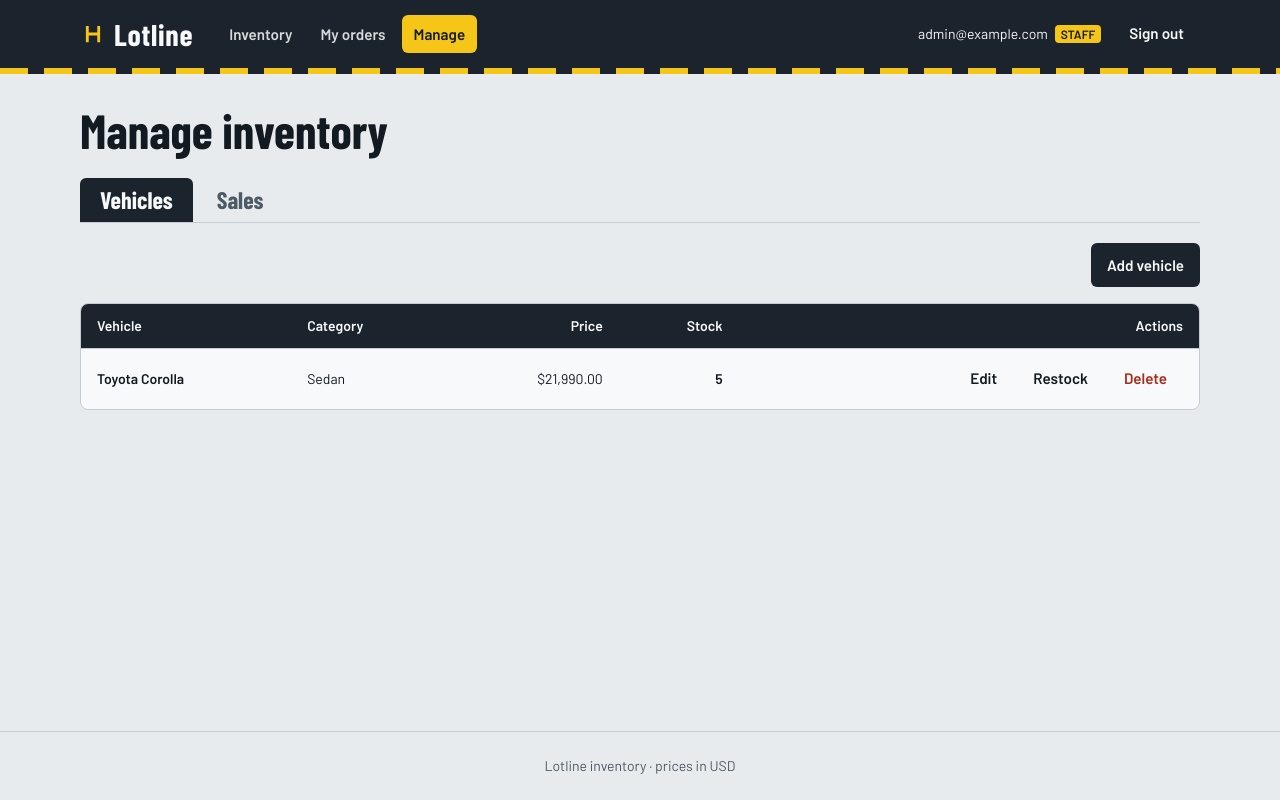
Test: admin-only UI › explains a conflicting edit (409) instead of overwriting silently
The width and height of the screenshot is (1280, 800).
Click the button with aria-label "Edit Toyota Corolla". click: (984, 379)
box: [954, 357, 1013, 401]
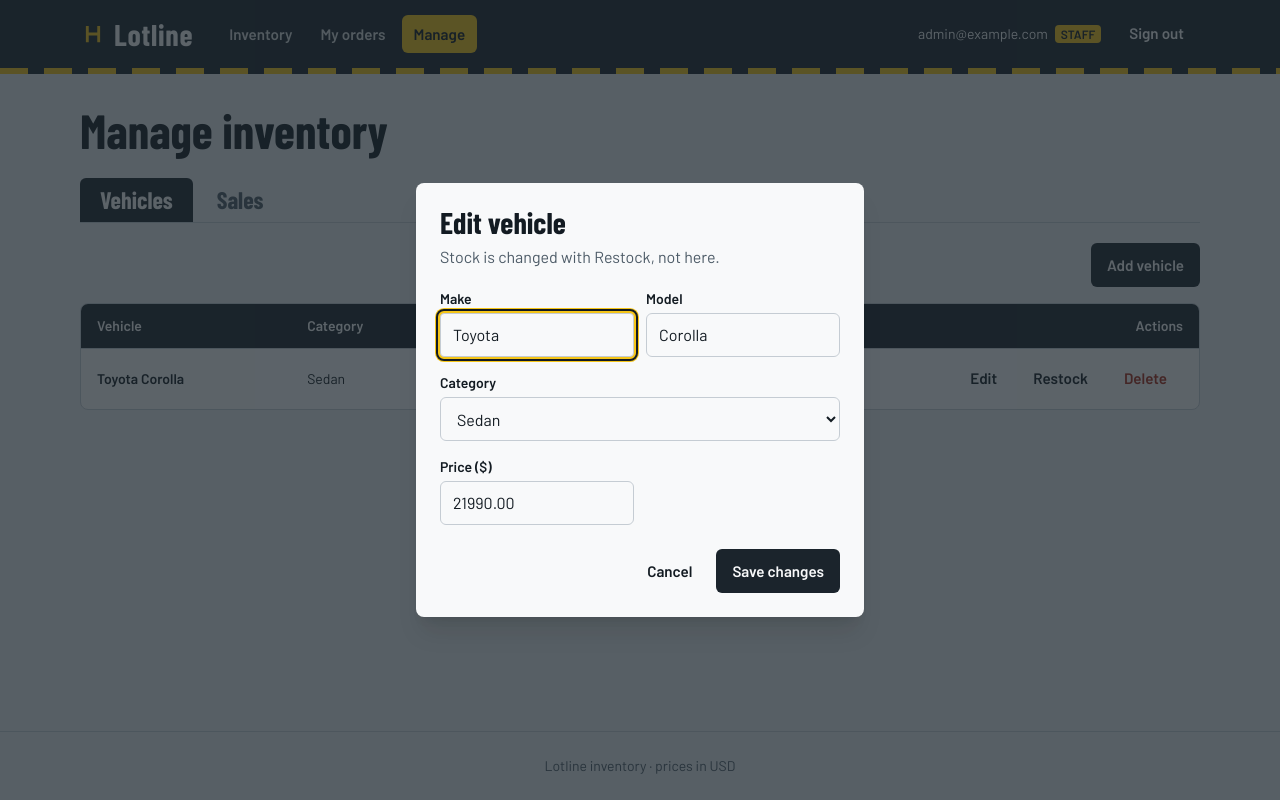
Click the button "Save changes". click: (778, 571)
box: [716, 549, 840, 593]
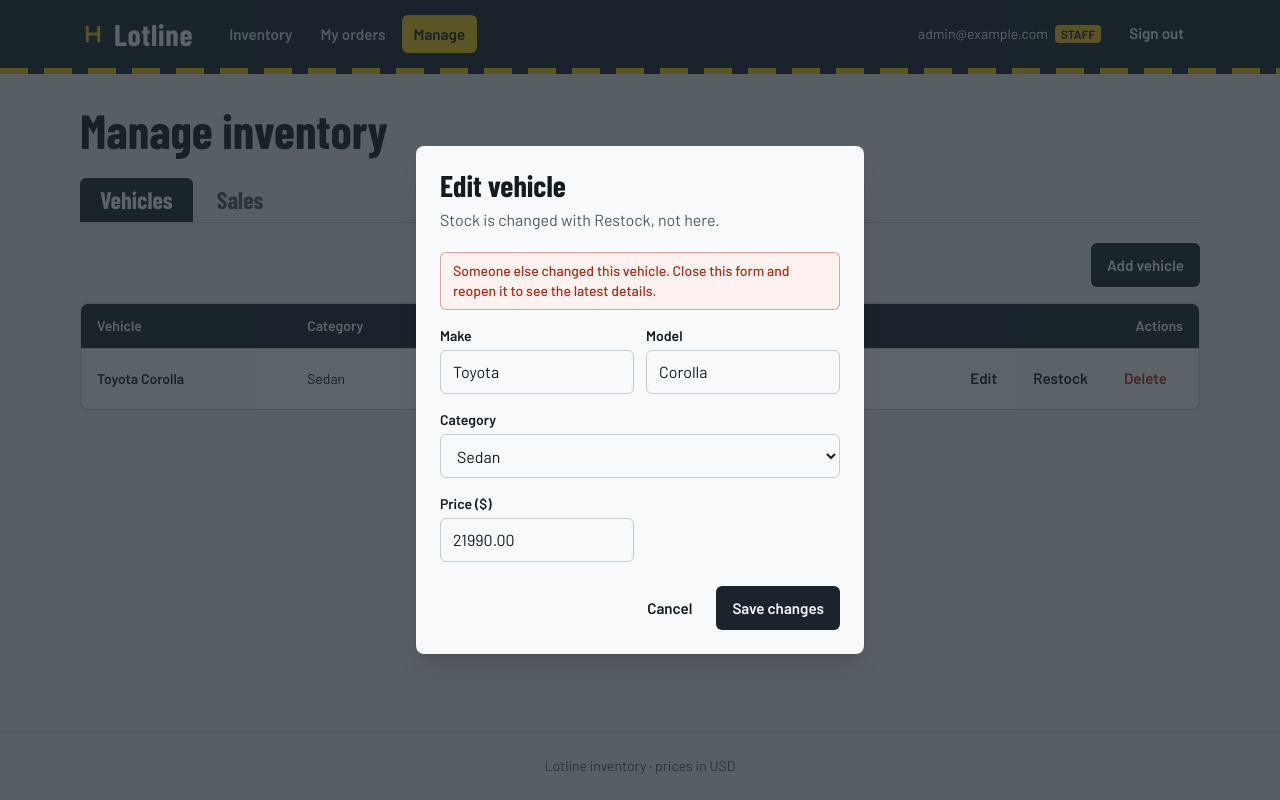
expect the message shows "Someone else changed this vehicle": met, box [453, 262, 790, 299]
